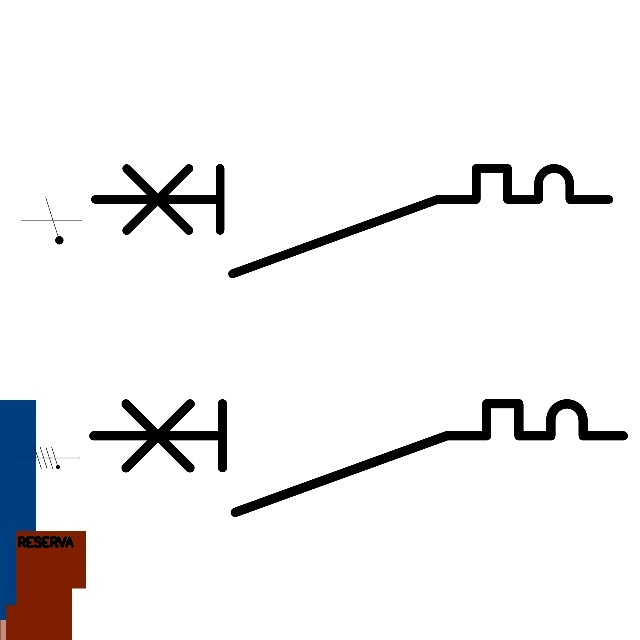interruptor_termomagnetico: (79, 390, 636, 526), (82, 155, 622, 287)
